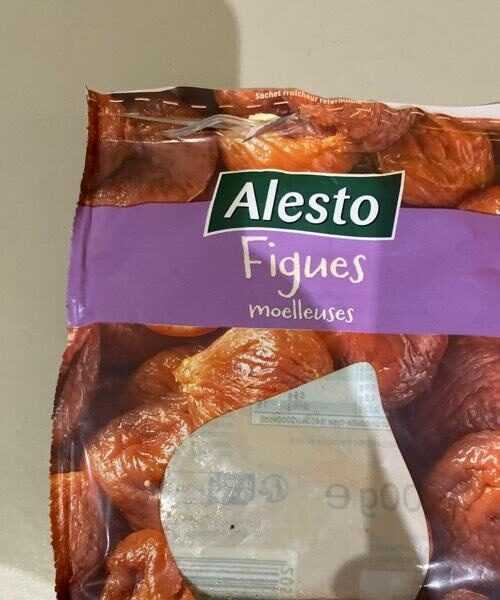Sift Figs: (25, 30, 475, 570)
